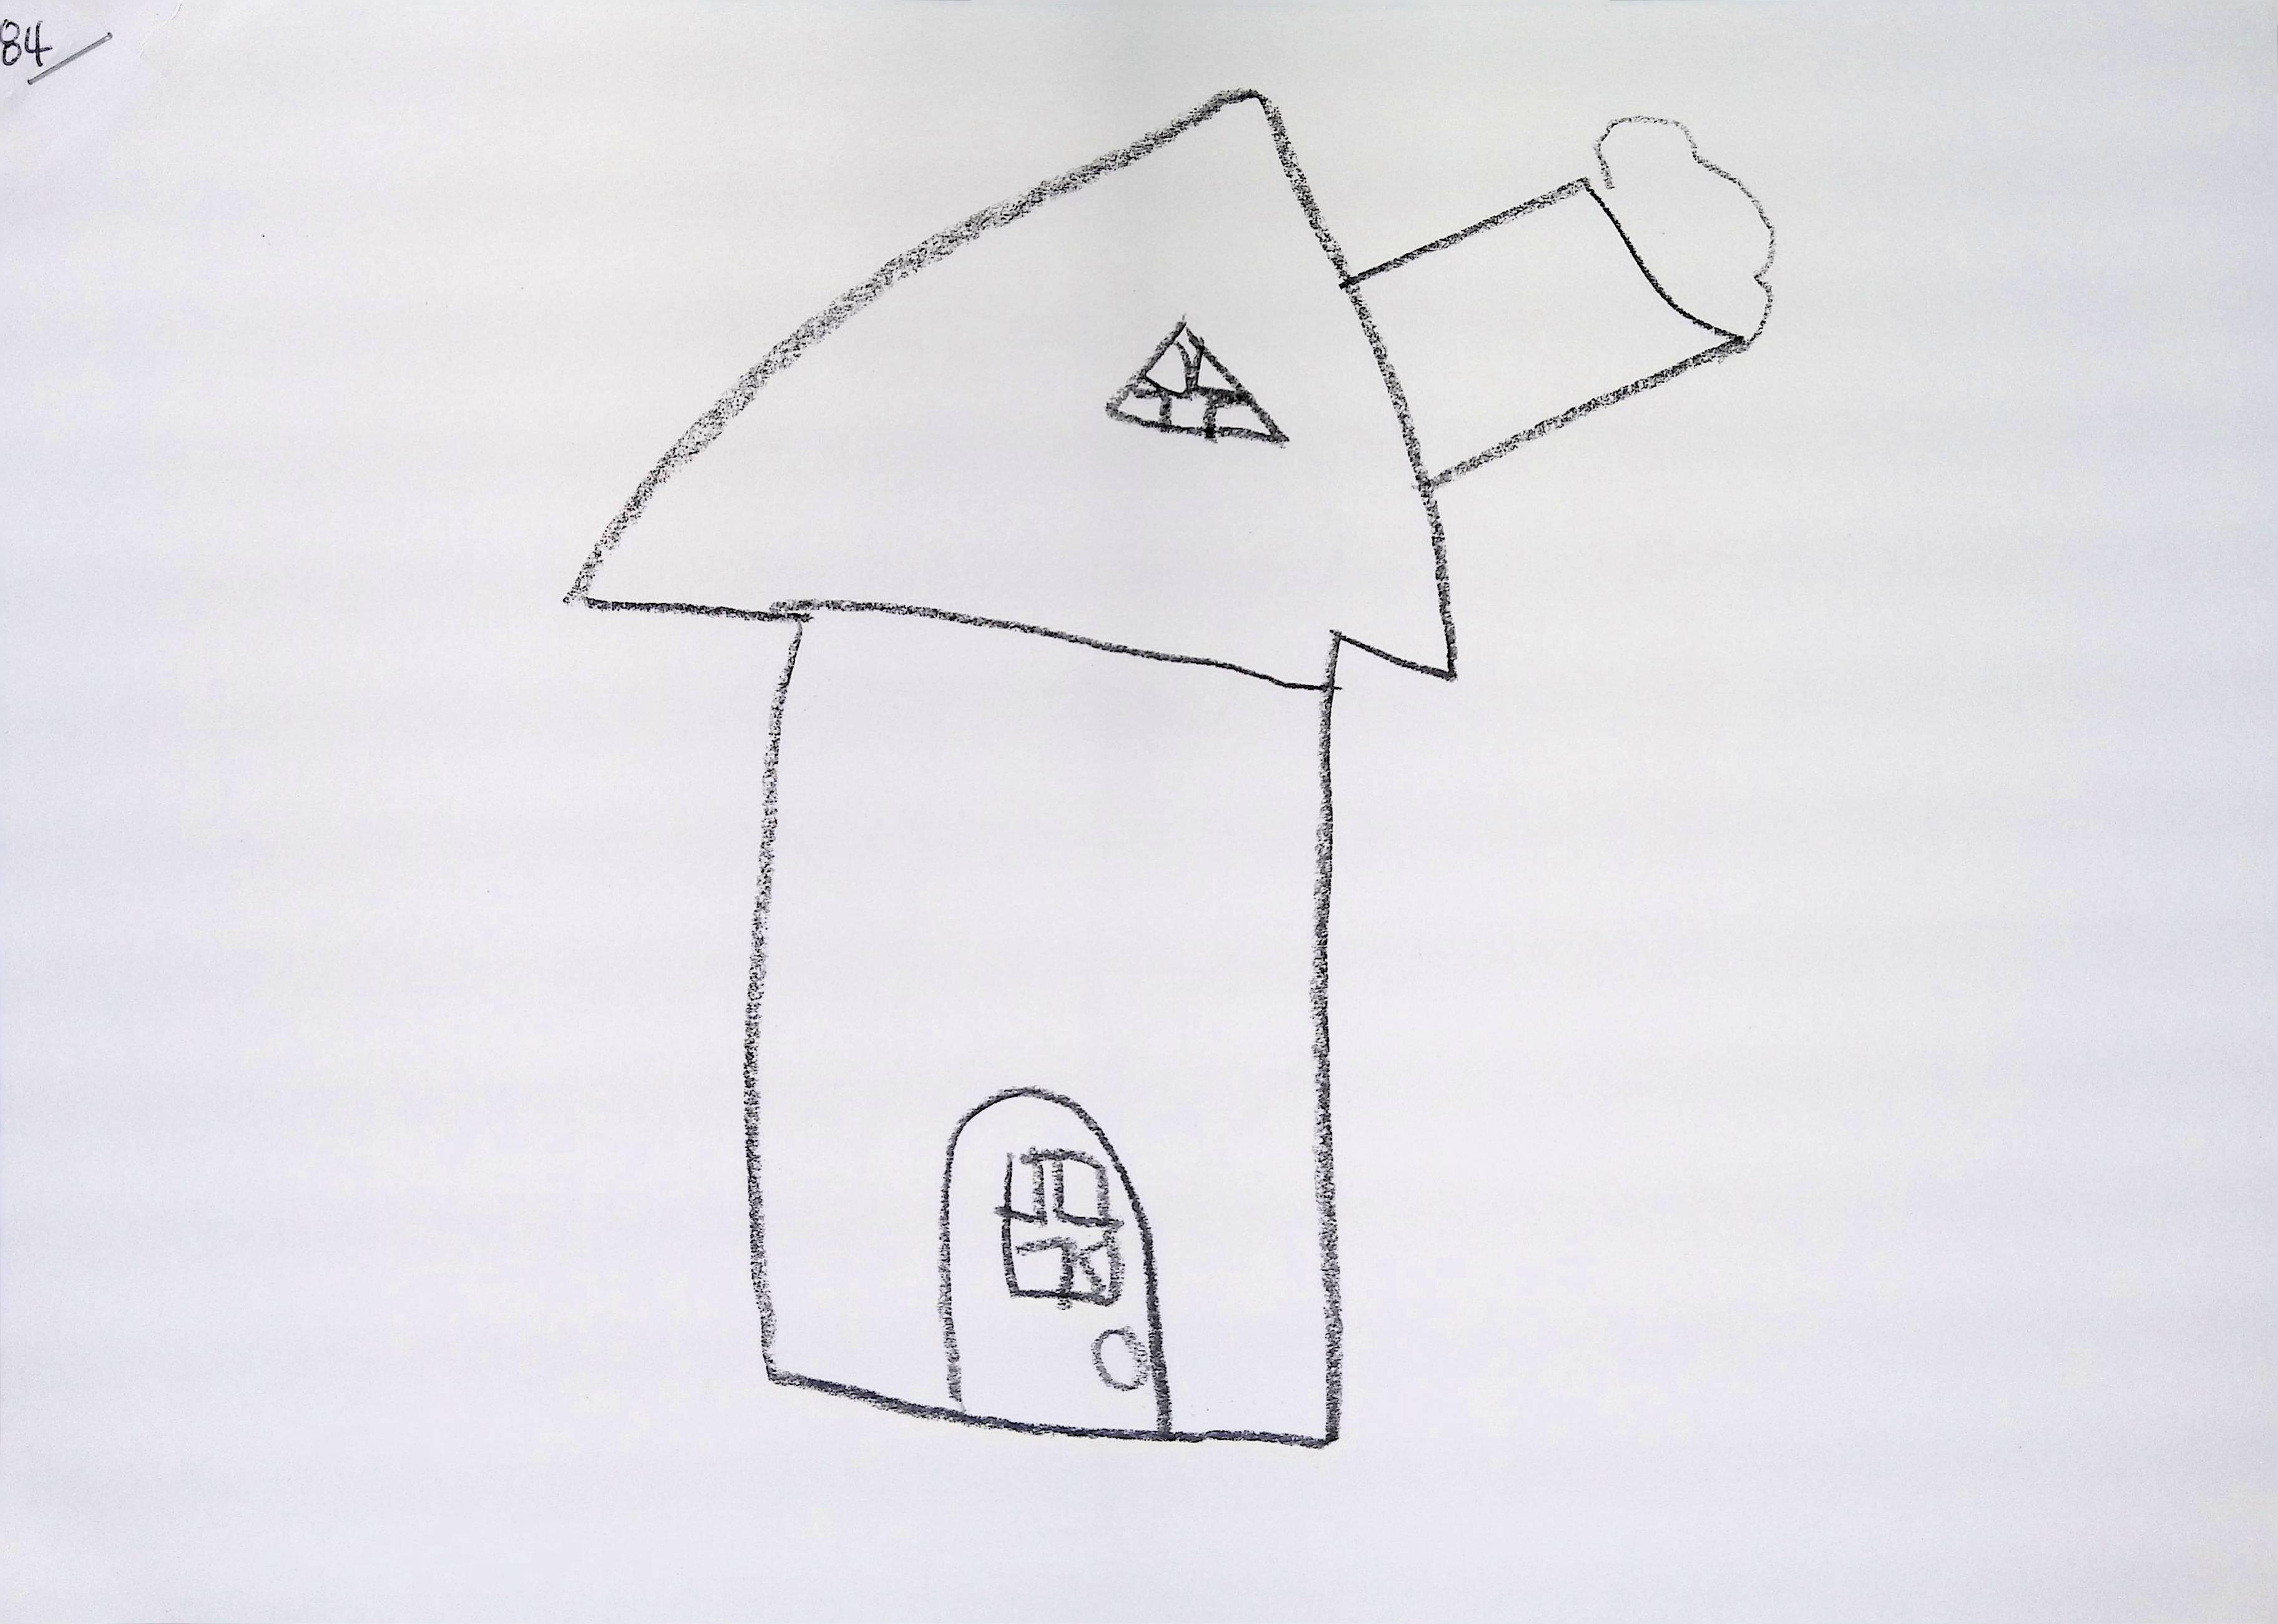chimney: (1360, 190, 1747, 471)
door: (939, 1088, 1172, 1432)
house: (571, 86, 1756, 1448)
roof: (592, 97, 1461, 698)
wall: (744, 613, 1341, 1446)
window: (1106, 318, 1288, 441), (997, 1141, 1120, 1302)
